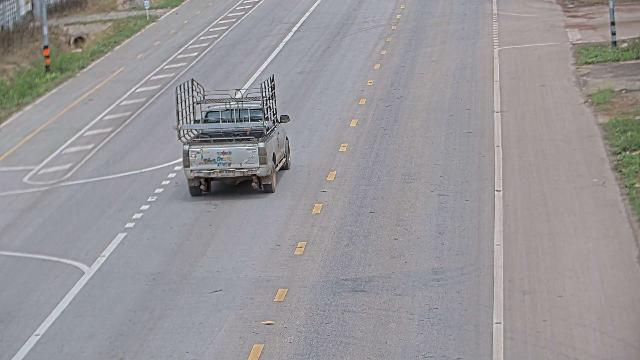pickup-truck: (173, 73, 291, 197)
